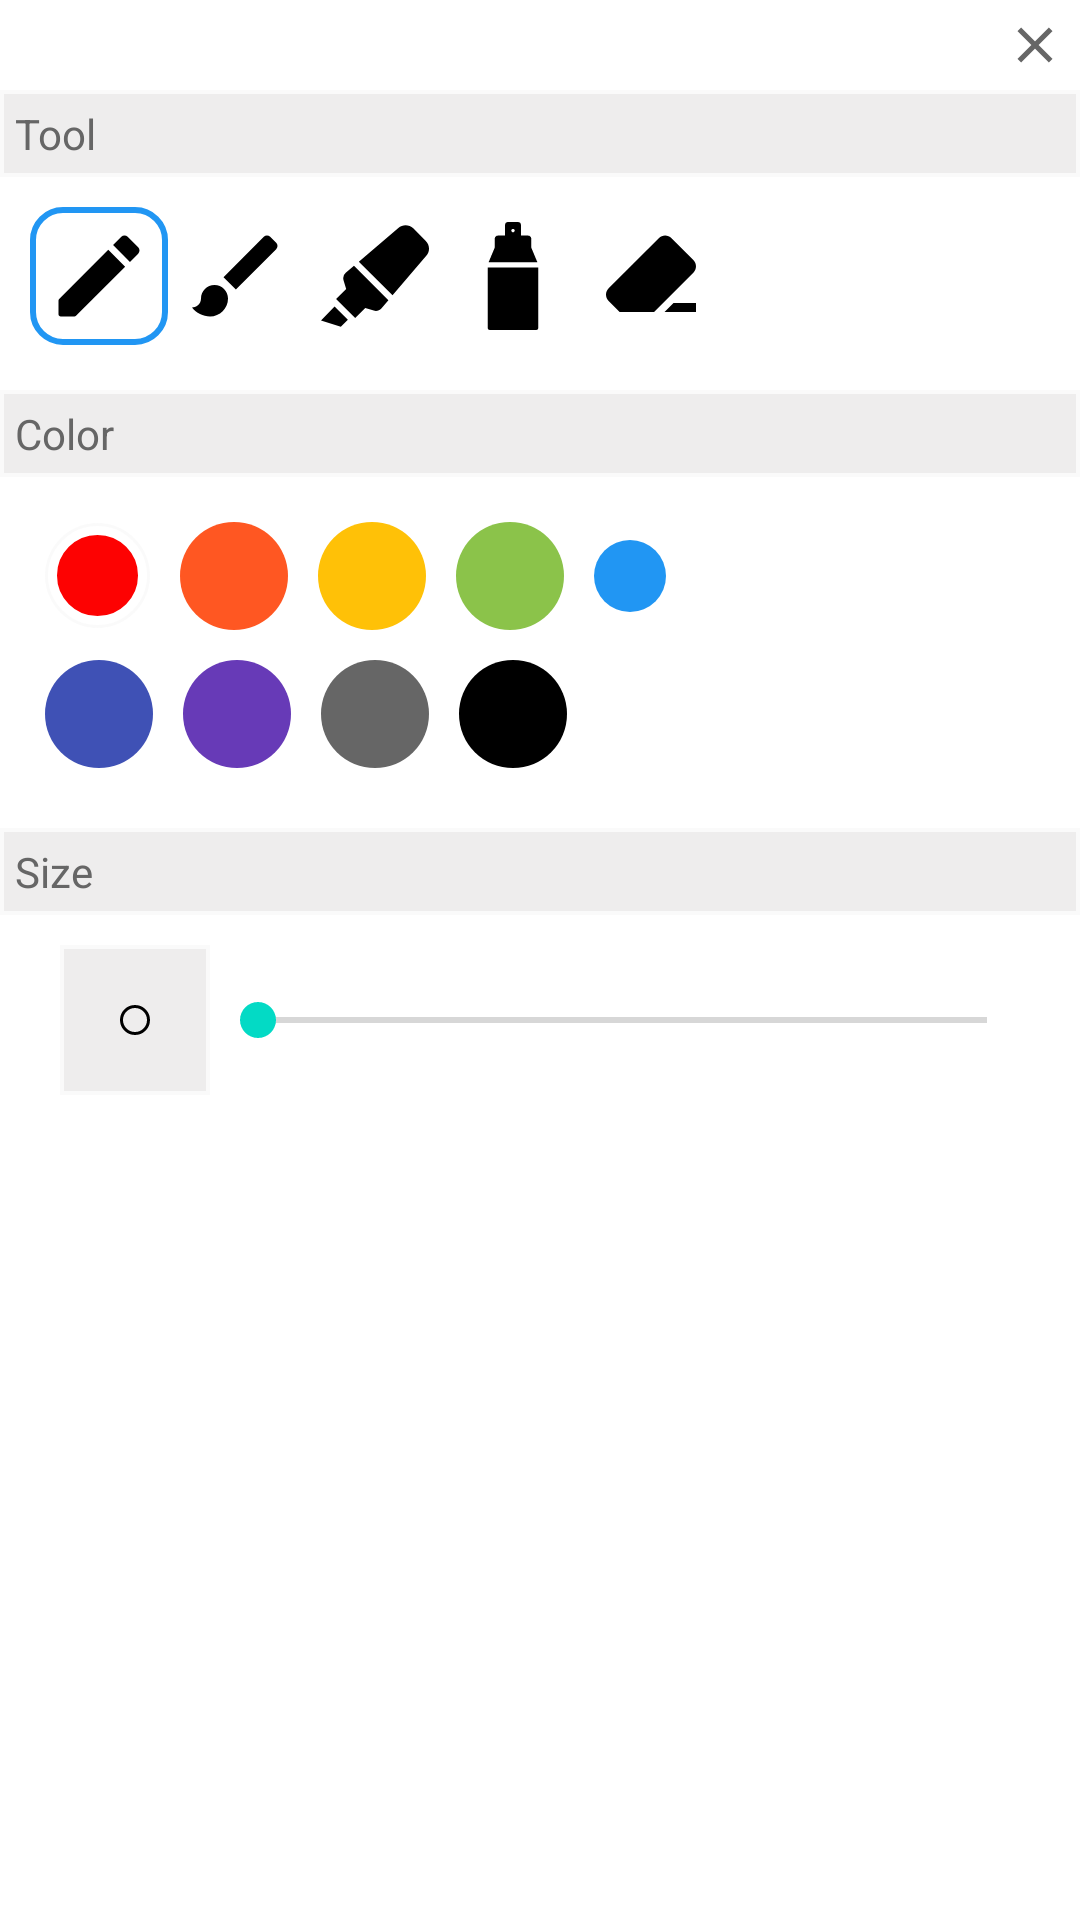

Point at icon controls on the screen. Image size 1080px×1920px, points as (x=x, y=y).
brush: (x=235, y=276)
close: (x=1035, y=45)
eraser: (x=651, y=273)
highlighter: (x=375, y=276)
pencil: (x=99, y=276)
spray: (x=513, y=276)
